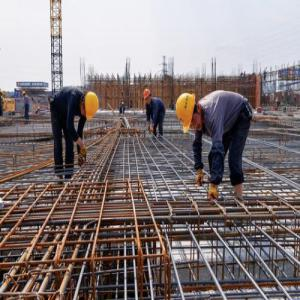red: (143, 88, 154, 105)
yellow: (175, 90, 205, 135), (80, 90, 101, 124)
